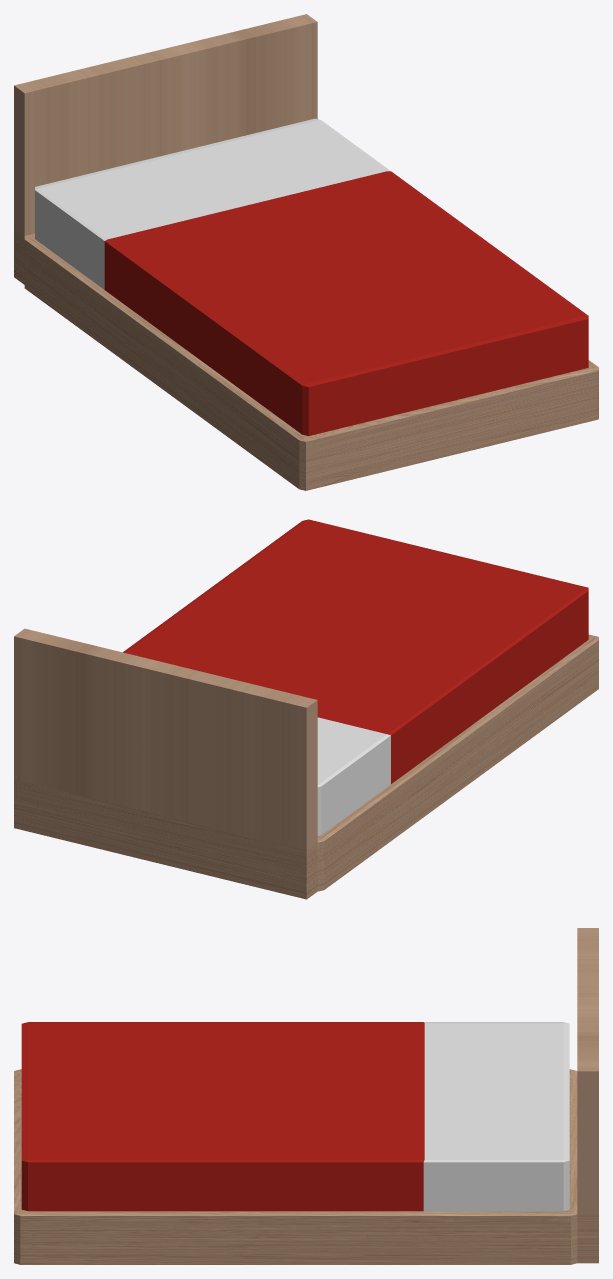
Rendered from bed.glb.
The picture shows the model from 3 angles, top to bottom: view 1: azimuth 30°, elevation 25°; view 2: azimuth 150°, elevation 25°; view 3: azimuth 270°, elevation 25°; orthographic projection.
Parts seen in each view (by area): view 1: Cube; view 2: Cube; view 3: Cube.
Part boxes in pixels (left/top/right/bottom): Cube: left=14, top=14, right=598, bottom=490; Cube: left=14, top=519, right=598, bottom=899; Cube: left=14, top=928, right=598, bottom=1264.
Bounding box in the file's own units: 6.25 × 3.83 × 10.55.
Materials: 3 (1 with a texture image).
